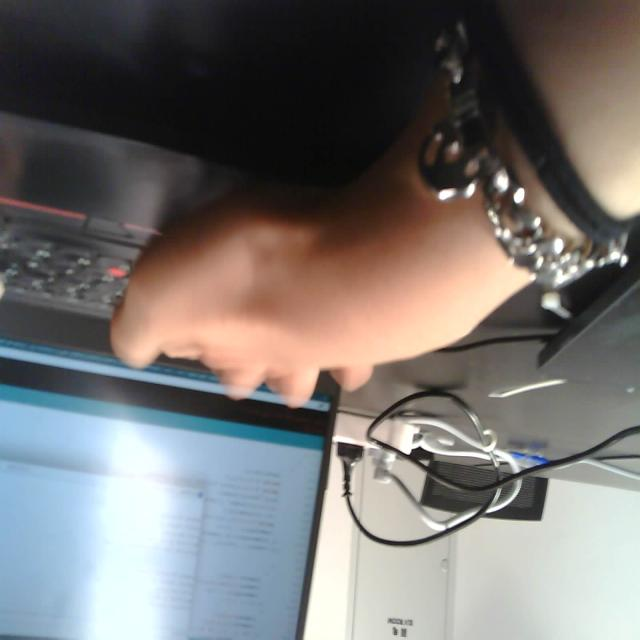keyboard-with-hands: (0, 113, 353, 366)
